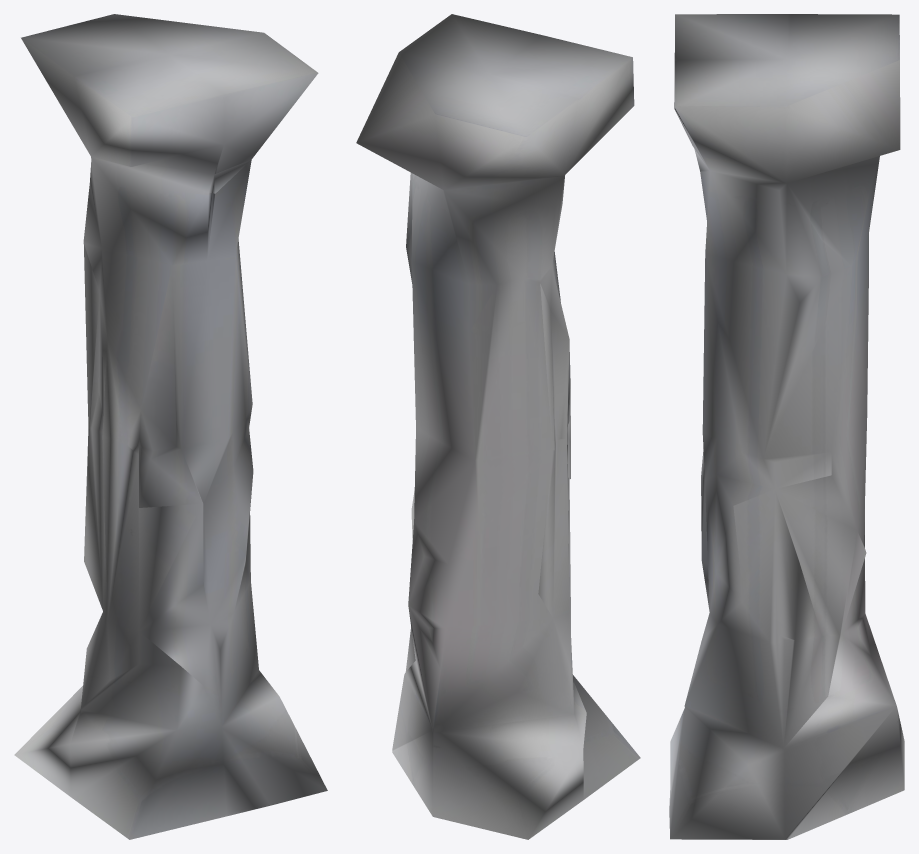
File: pillar_stone.glb
3 views of the same model, side by side, from view 1: azimuth 30°, elevation 25°; view 2: azimuth 150°, elevation 25°; view 3: azimuth 270°, elevation 25° (orthographic). The views are drawn at different scales.
Parts seen in each view (by area): view 1: tripo_node_f822dbd2-58aa-49cd-9369-3cb8ae367670; view 2: tripo_node_f822dbd2-58aa-49cd-9369-3cb8ae367670; view 3: tripo_node_f822dbd2-58aa-49cd-9369-3cb8ae367670.
Part boxes in pixels (x1,y1,x2,y2): tripo_node_f822dbd2-58aa-49cd-9369-3cb8ae367670: (14,14,327,839); tripo_node_f822dbd2-58aa-49cd-9369-3cb8ae367670: (356,14,640,839); tripo_node_f822dbd2-58aa-49cd-9369-3cb8ae367670: (669,14,904,839).
Size of the model in its own units: 0.2889 by 0.9999 by 0.2919.
Materials: 1 (1 with a texture image).
